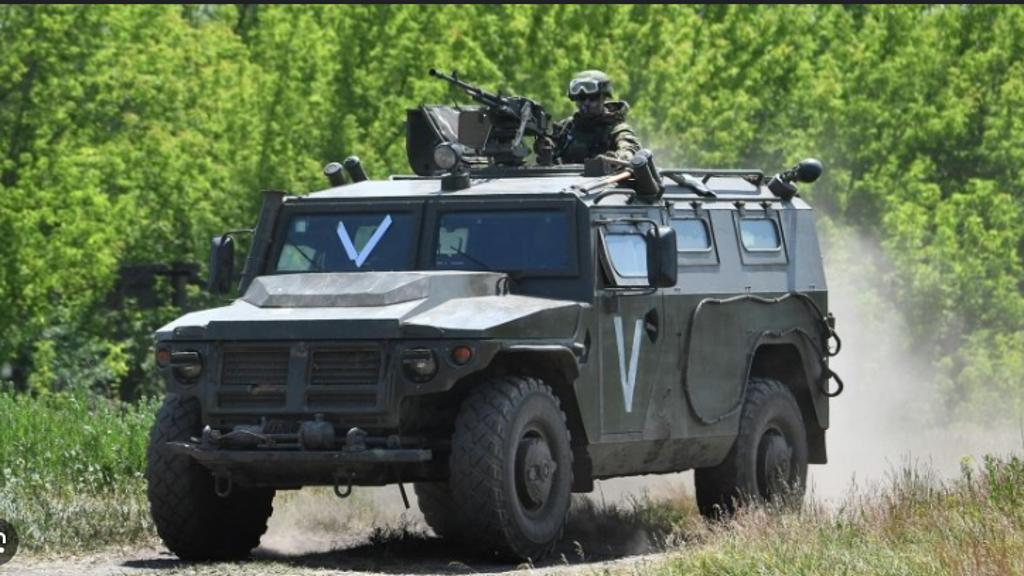CAR: (144, 70, 837, 562)
